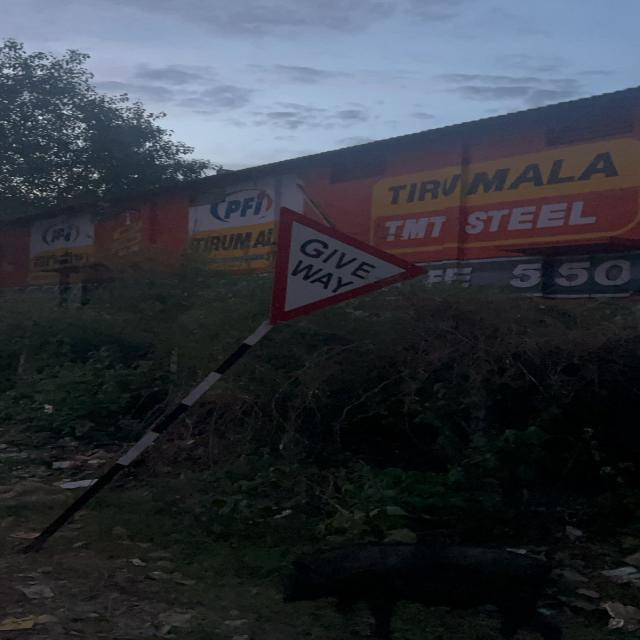give way: (269, 205, 430, 315)
